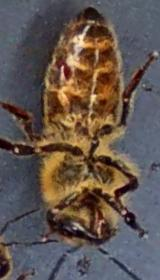varroa_mite: (52, 54, 75, 84)
